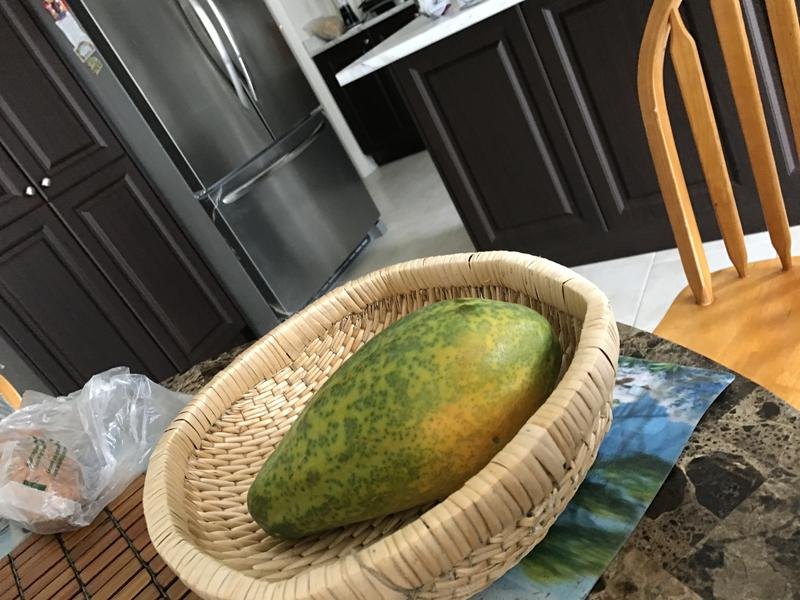papaya: (239, 288, 572, 552)
